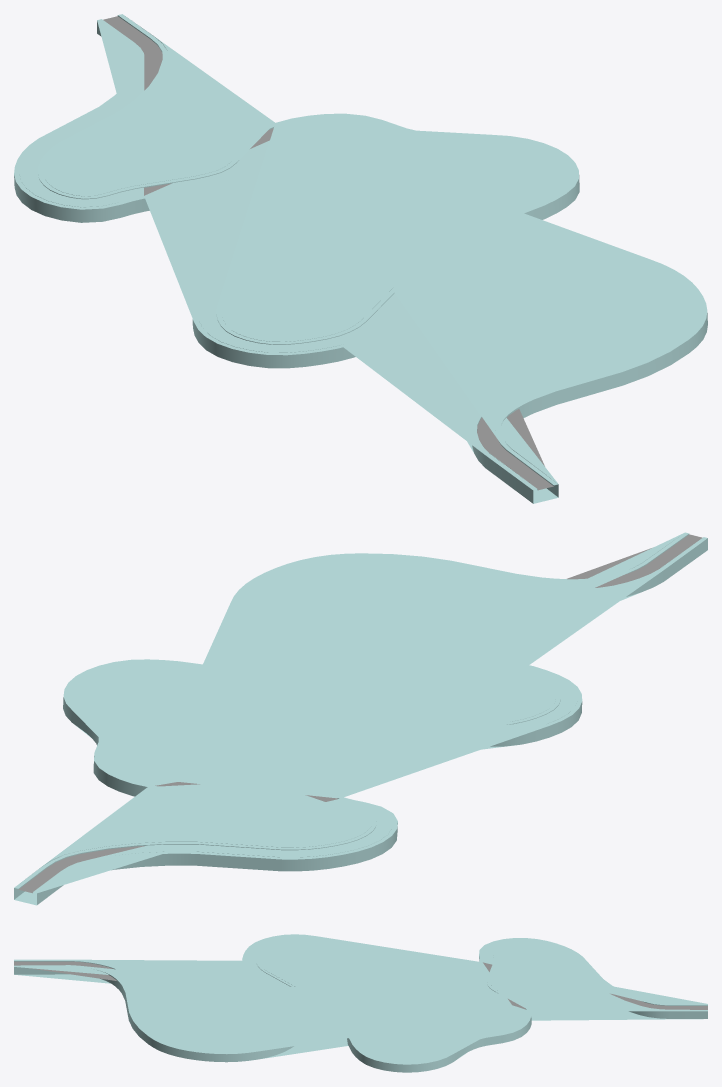
Rendered from crooked.fbx.
3 renders of one model, top to bottom at view 1: azimuth 30°, elevation 25°; view 2: azimuth 150°, elevation 25°; view 3: azimuth 270°, elevation 25°, orthographic. The views are drawn at different scales.
Parts seen in each view (by area): view 1: crooked; view 2: crooked; view 3: crooked.
Part boxes in pixels (x1=…): crooked: x1=14, y1=14, x2=707, y2=503; crooked: x1=14, y1=532, x2=707, y2=905; crooked: x1=14, y1=934, x2=707, y2=1072.
Bounding box in the file's own units: 3660 × 110 × 8188.
